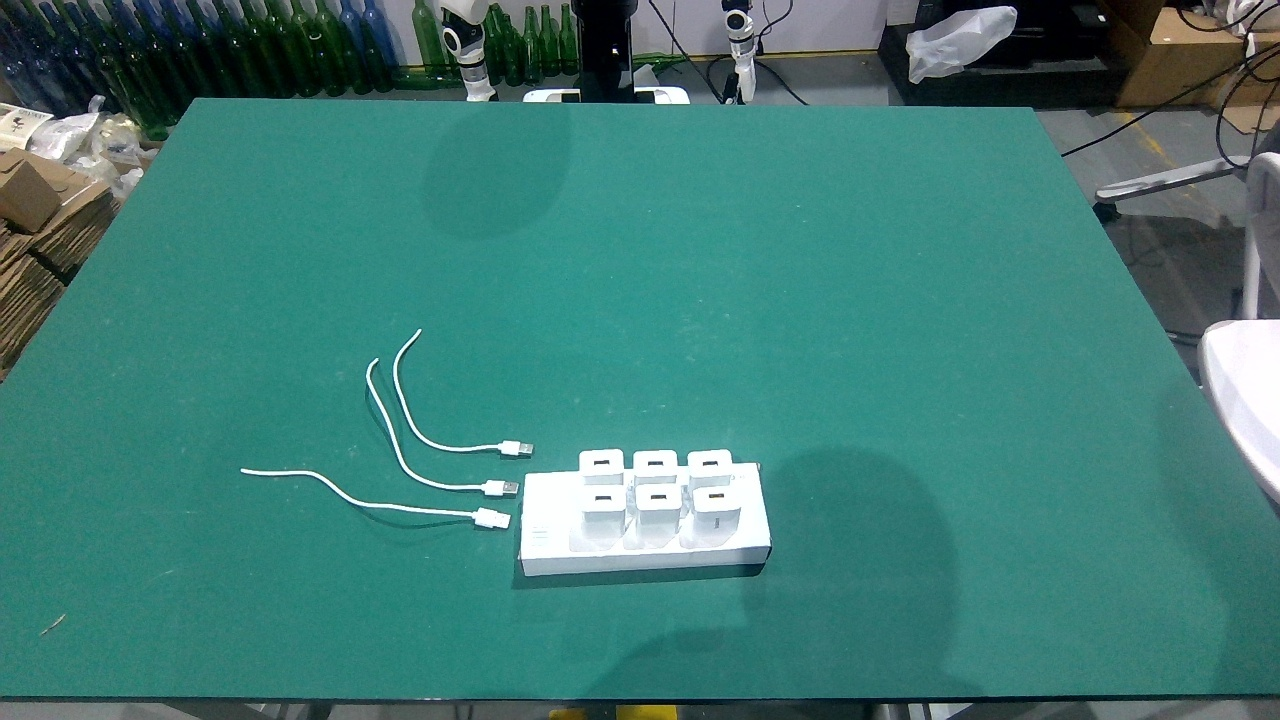usb_a_port: (592, 459, 613, 467), (649, 493, 668, 501), (646, 460, 665, 467), (594, 495, 613, 502), (702, 461, 720, 468), (708, 492, 726, 499)
